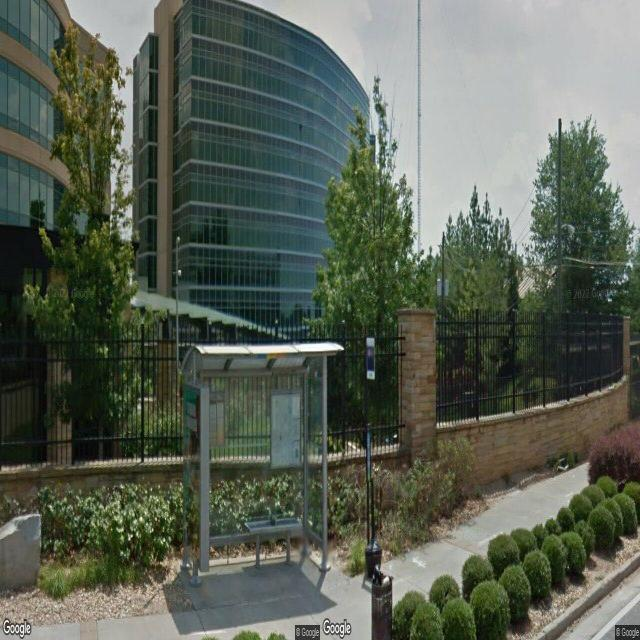seating: (244, 510, 301, 570)
shelter: (180, 340, 346, 584)
trash_can: (371, 576, 393, 640)
